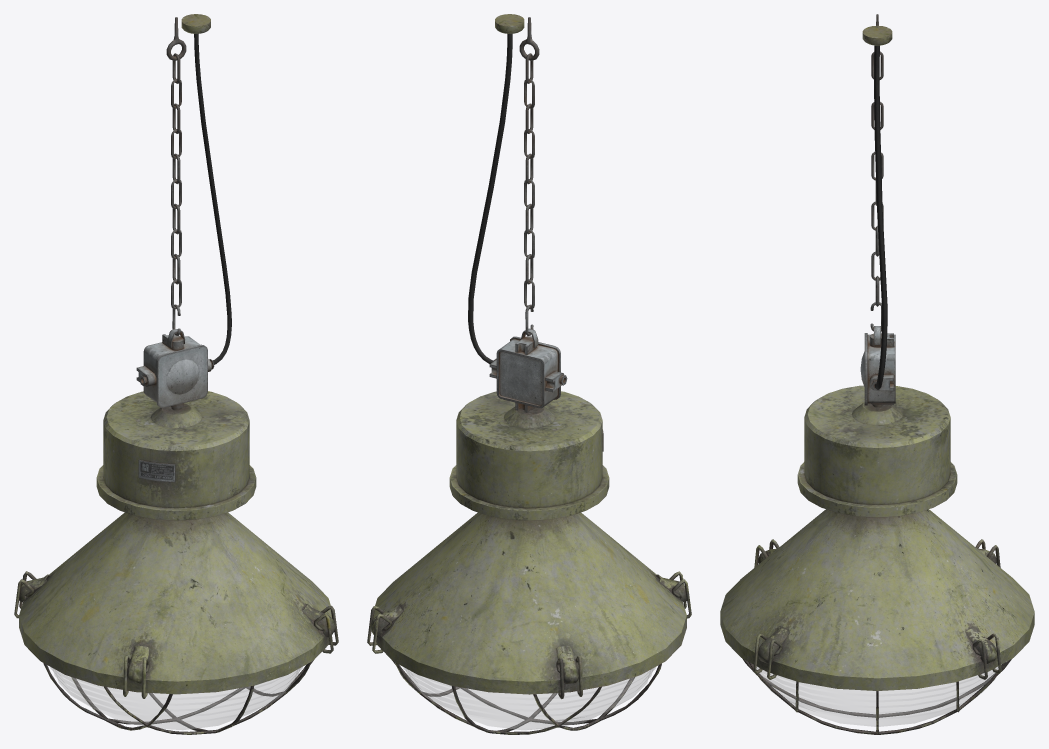
Rendered from hanging_industrial_lamp.glb.
3 renders of one model, left to right at view 1: azimuth 30°, elevation 25°; view 2: azimuth 150°, elevation 25°; view 3: azimuth 270°, elevation 25°, orthographic.
Parts seen in each view (by area): view 1: hanging_industrial_lamp; view 2: hanging_industrial_lamp; view 3: hanging_industrial_lamp.
Part boxes in pixels (box(x1,y1,x2,y2)): hanging_industrial_lamp: box(14, 14, 338, 734); hanging_industrial_lamp: box(367, 14, 691, 734); hanging_industrial_lamp: box(720, 14, 1034, 734).
Bounding box in the file's own units: 0.5497 × 1.36 × 0.5497.
2 materials, 1 textured.
